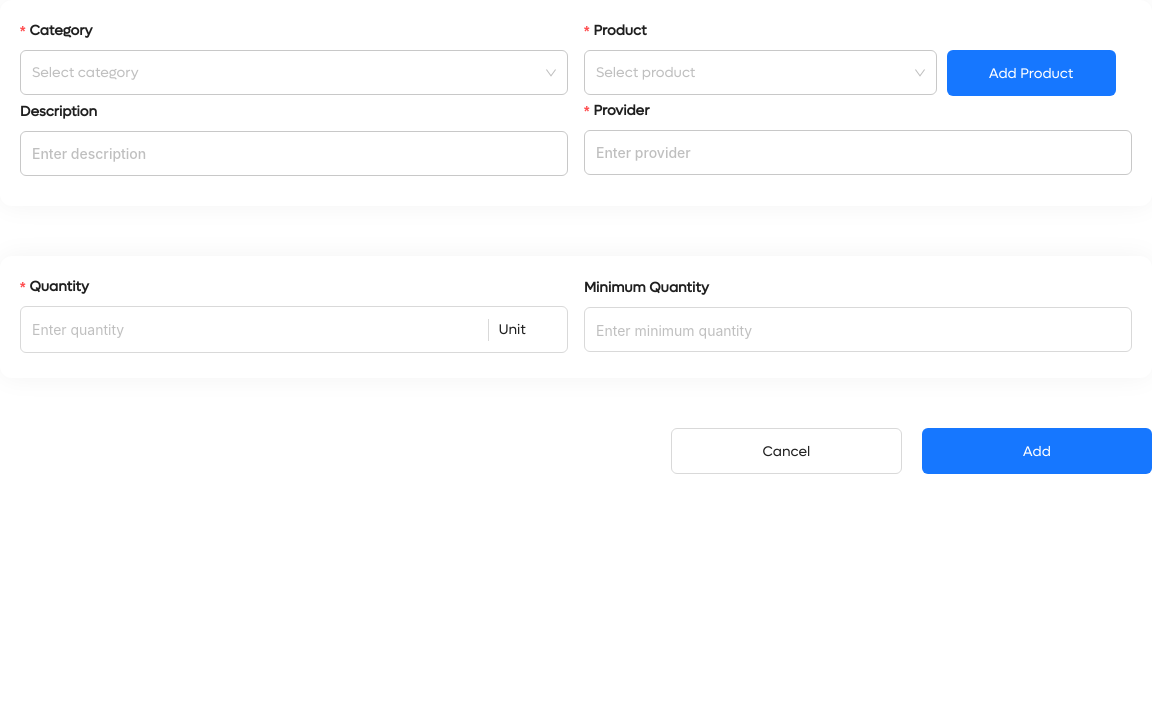
Add  Inventory Button › should give error message when form is submitted without filling all the fields
Click the button "Add" at (1037, 451), box [922,428,1152,474]
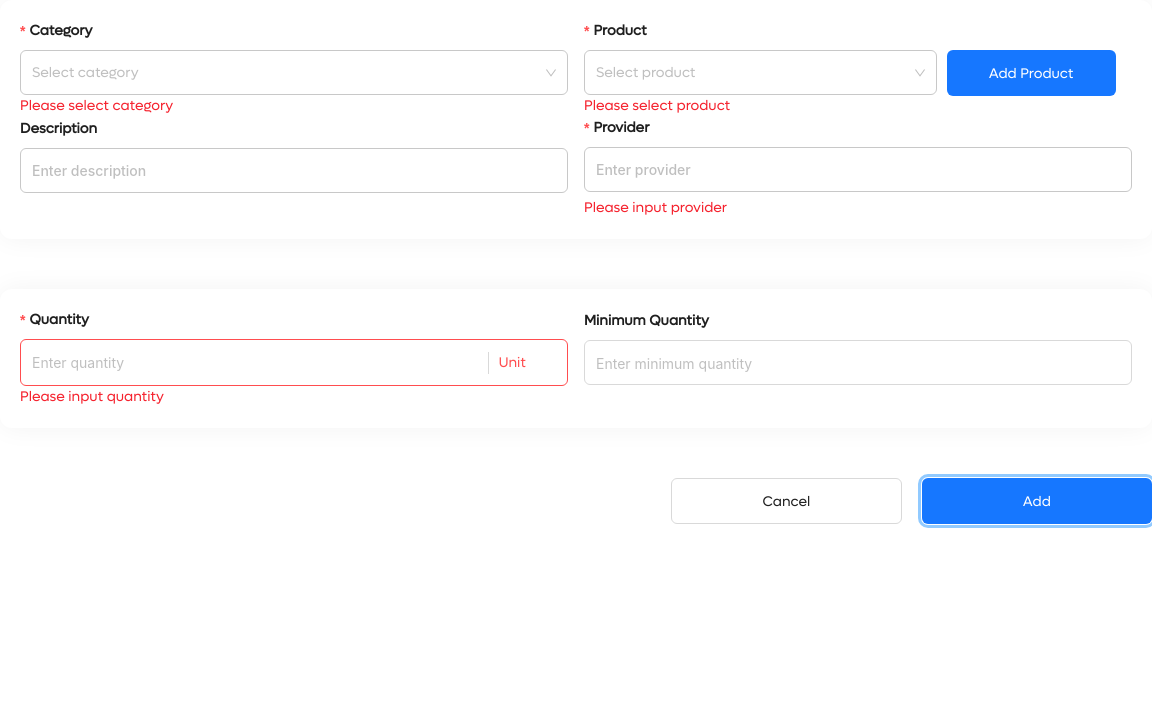
Check: the text "Please select category" is shown, box [20,96,173,115]
Check: the text "Please select product" is shown, box [584,96,730,115]
Check: the text "Please input quantity" is shown, box [20,387,164,406]
